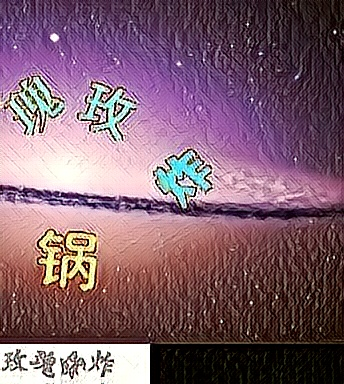B9E5: (4, 72, 66, 136)
B9F8: (35, 226, 97, 290)
C3B5: (75, 78, 137, 142)
D5A8: (151, 144, 213, 208)
